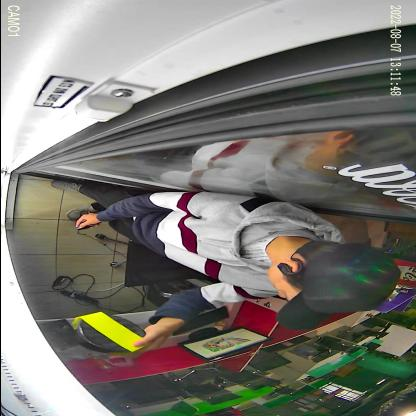yellow: (68, 311, 146, 357)
